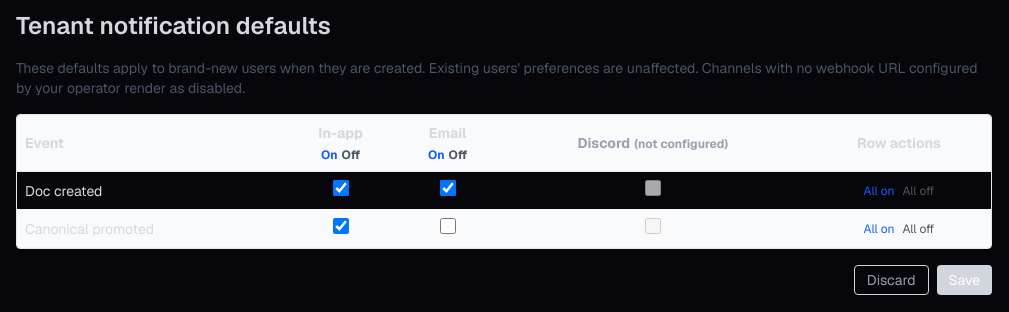
Test: AdminNotificationDefaultsGrid › row bulk-on enables every REGISTERED channel for the event type
Click the button with test id "notif-defaults-row-kb_canonical_promoted-enable-all".
click(879, 228)  # box [864,220,894,236]
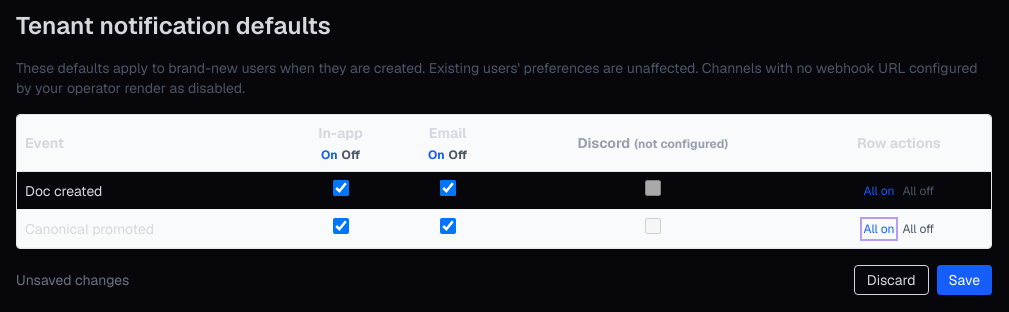
Expected: the checkbox with test id "notif-defaults-cell-kb_canonical_promoted-in_app-toggle" is checked, [333,218,349,234]
Expected: the checkbox with test id "notif-defaults-cell-kb_canonical_promoted-email-toggle" is checked, [440,218,456,234]
